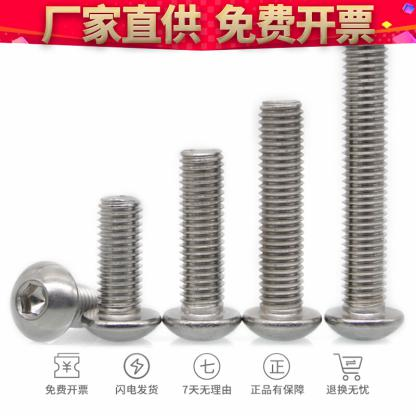FOD: (323, 42, 406, 342), (241, 96, 323, 344), (160, 148, 242, 344), (79, 192, 162, 348), (9, 260, 100, 348)
